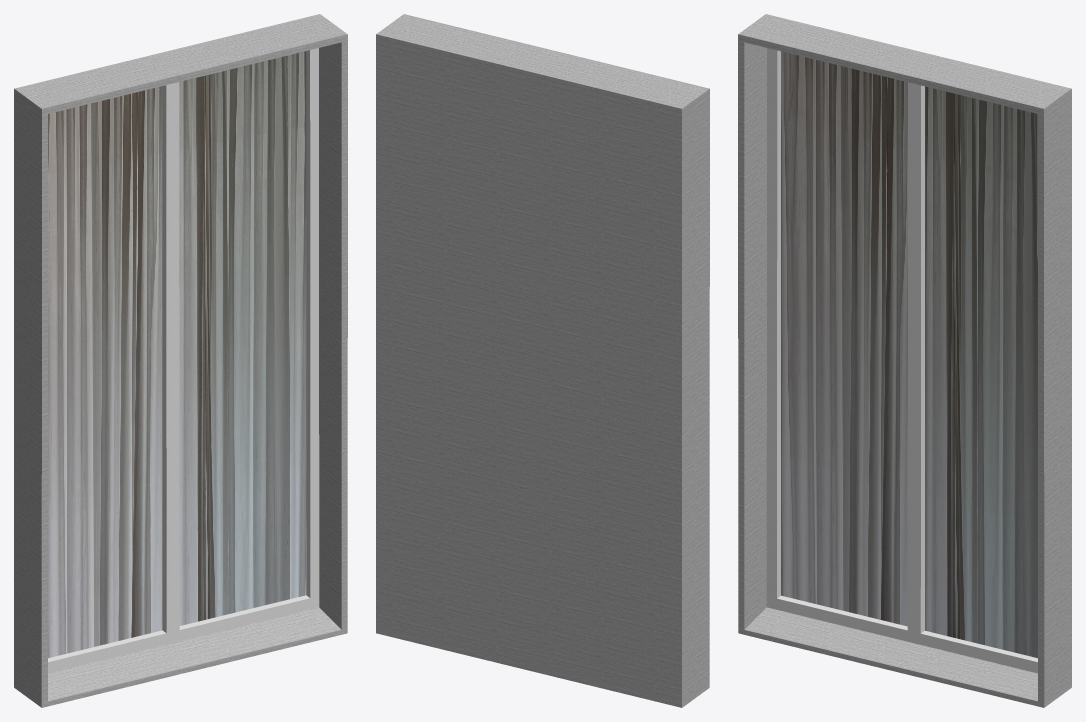
The model's file is 2FensterBDoor.glb.
3 views of the same model, side by side, from view 1: azimuth 30°, elevation 25°; view 2: azimuth 150°, elevation 25°; view 3: azimuth 330°, elevation 25° (orthographic).
Parts seen in each view (by area): view 1: Cube.005; view 2: Cube.005; view 3: Cube.005.
Boxes of the visible parts, x1,y1,x2,y2 form: Cube.005: (14,14,347,707); Cube.005: (376,14,709,707); Cube.005: (738,14,1071,707).
Bounding box in the file's own units: 3.42 × 6.39 × 0.5366.
3 materials, 3 textured.
